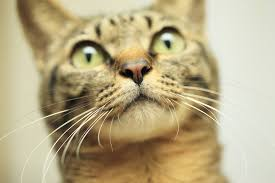Gato: (20, 4, 245, 167)
